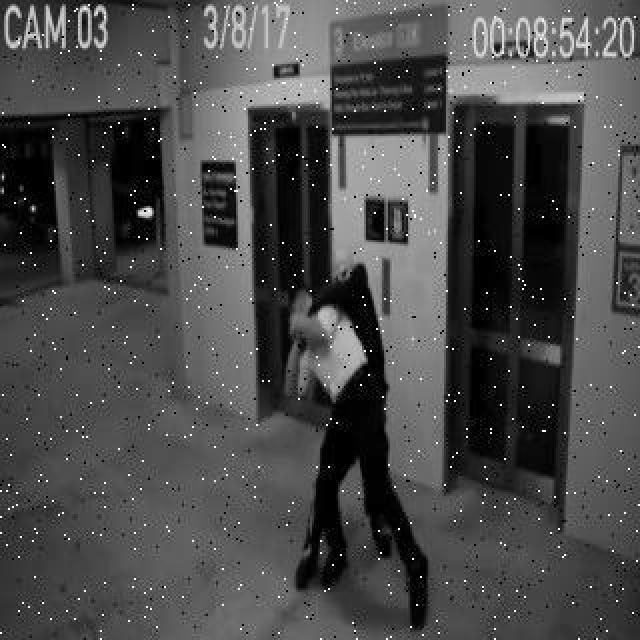fight: (261, 248, 471, 640)
